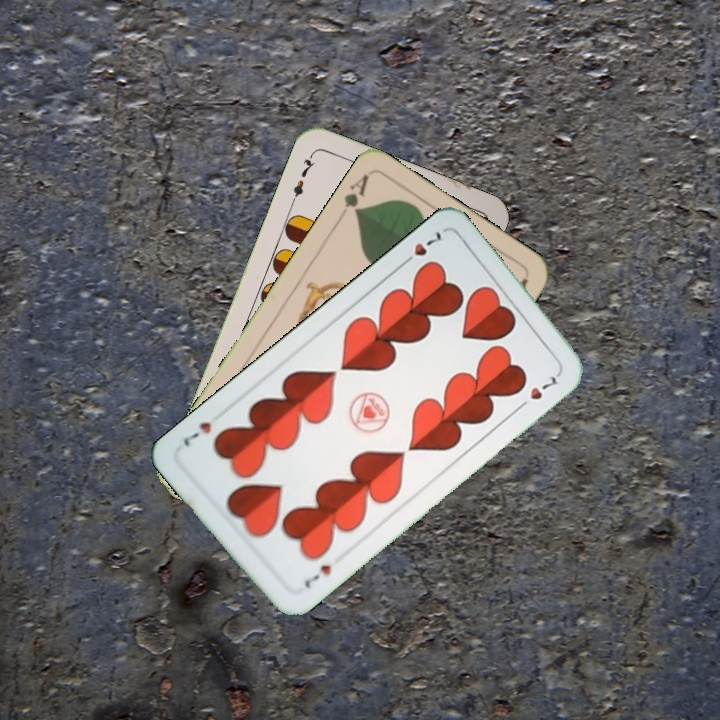E7: (287, 149, 317, 206)
GA: (340, 170, 372, 219)
H7: (397, 227, 447, 269), (299, 560, 334, 592)
